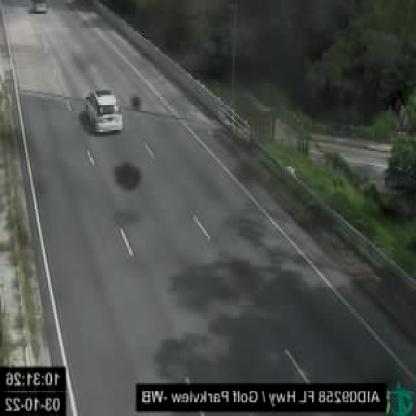Car: (86, 86, 123, 132)
